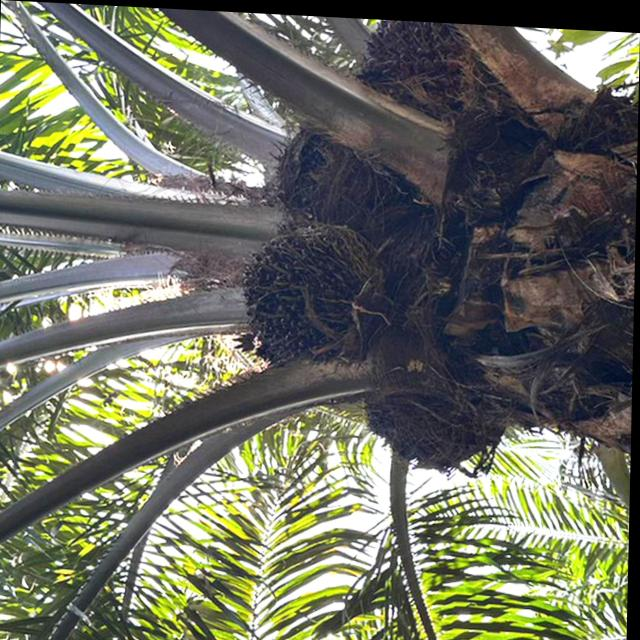unripe: (228, 210, 403, 375)
